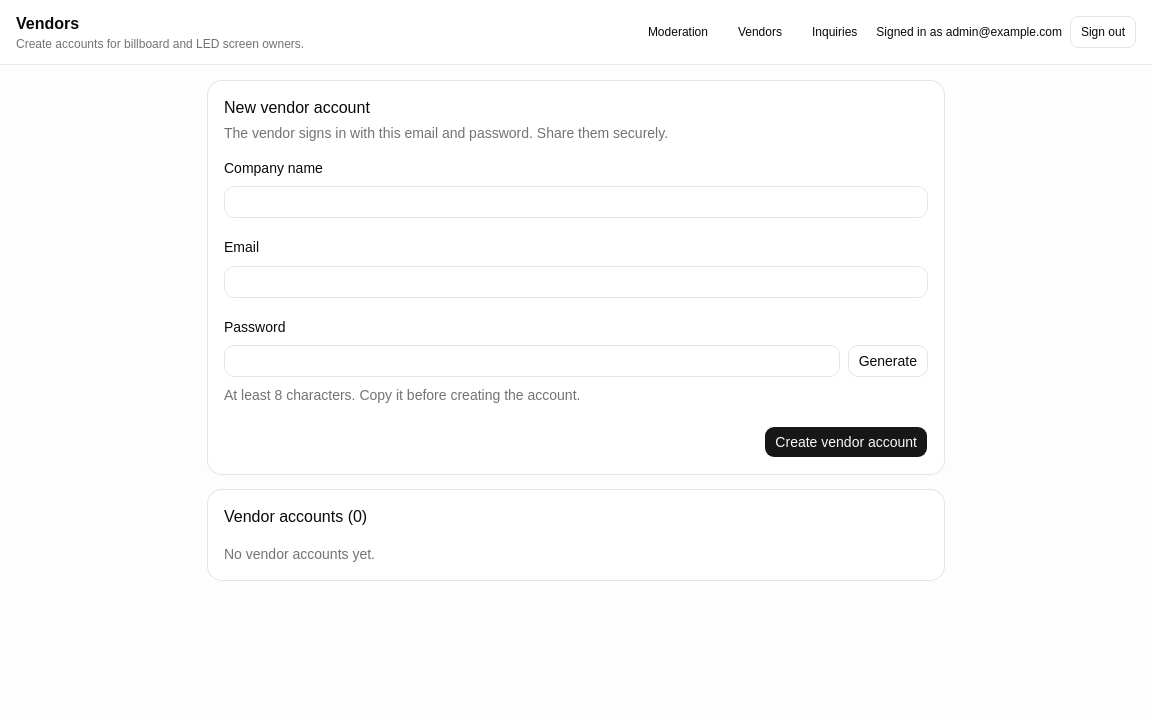
Scenario: AdminVendorsPage › marks the email field when the email is already registered
Check: the text "No vendor accounts yet." is shown, box [224,546,375,562]
Type "Reklama Plus" into the field labelled "Company name" at (576,202), box [224,186,928,218]
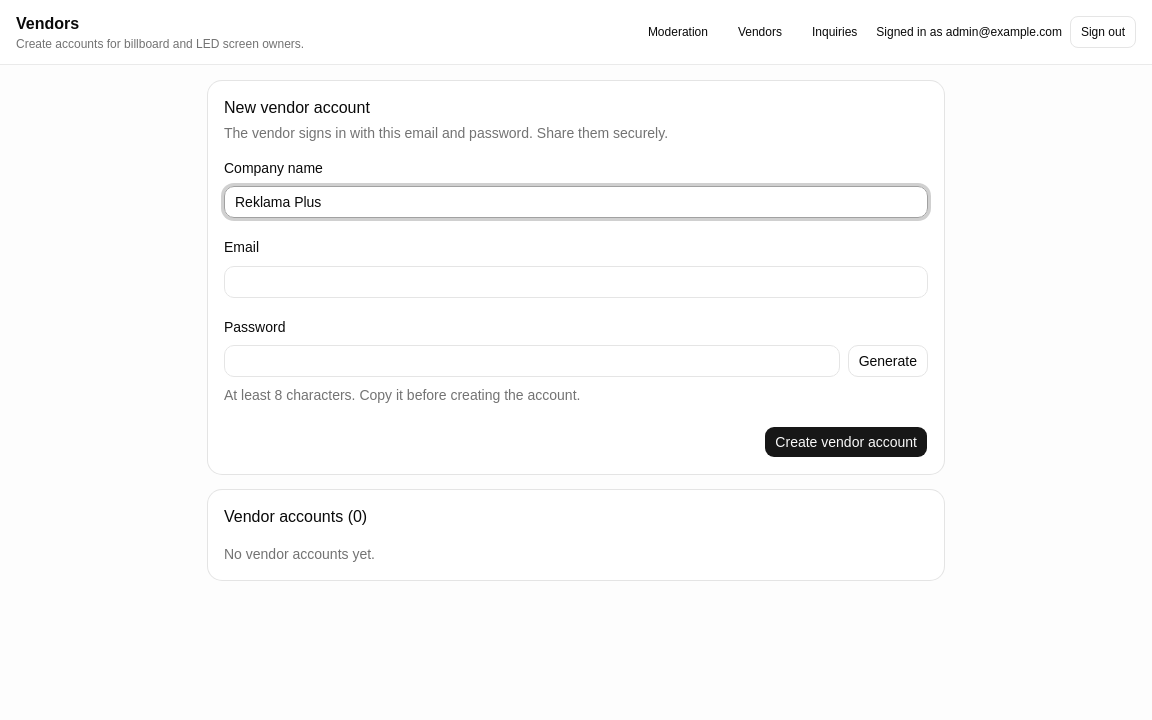
Type "sales@reklama.uz" into the field labelled "Email" at (576,282), box [224,266,928,298]
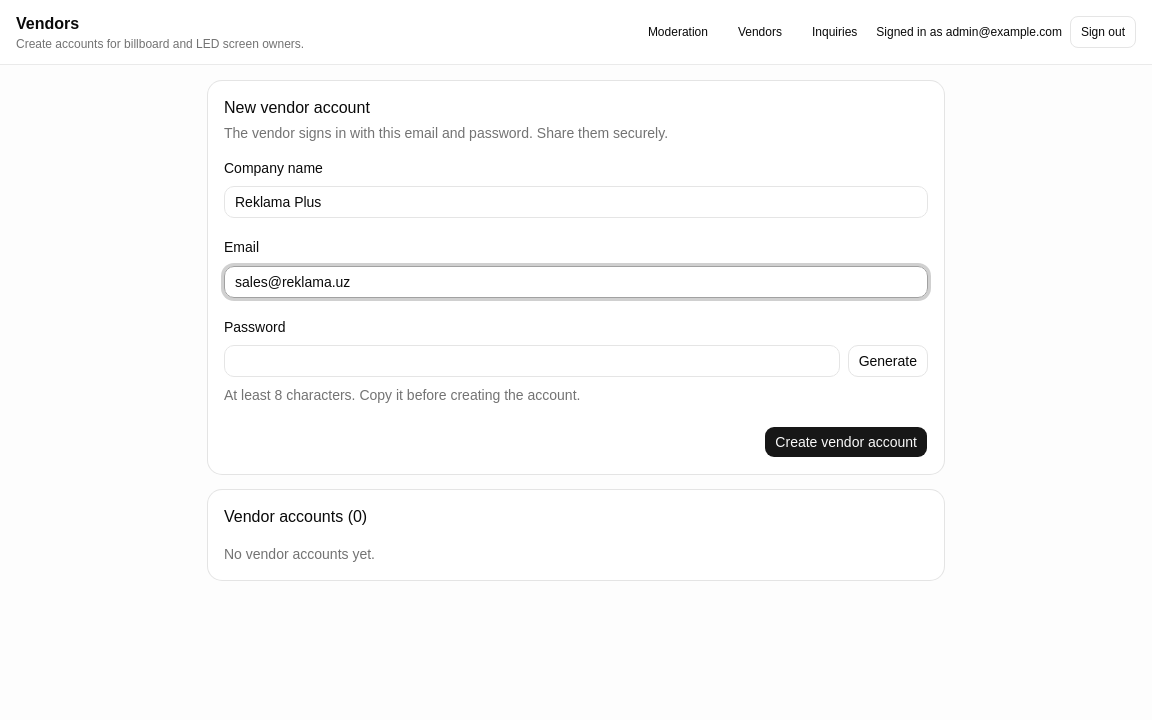
Type "long-enough" into the password field labelled "Password" at (532,361), box [224,345,840,377]
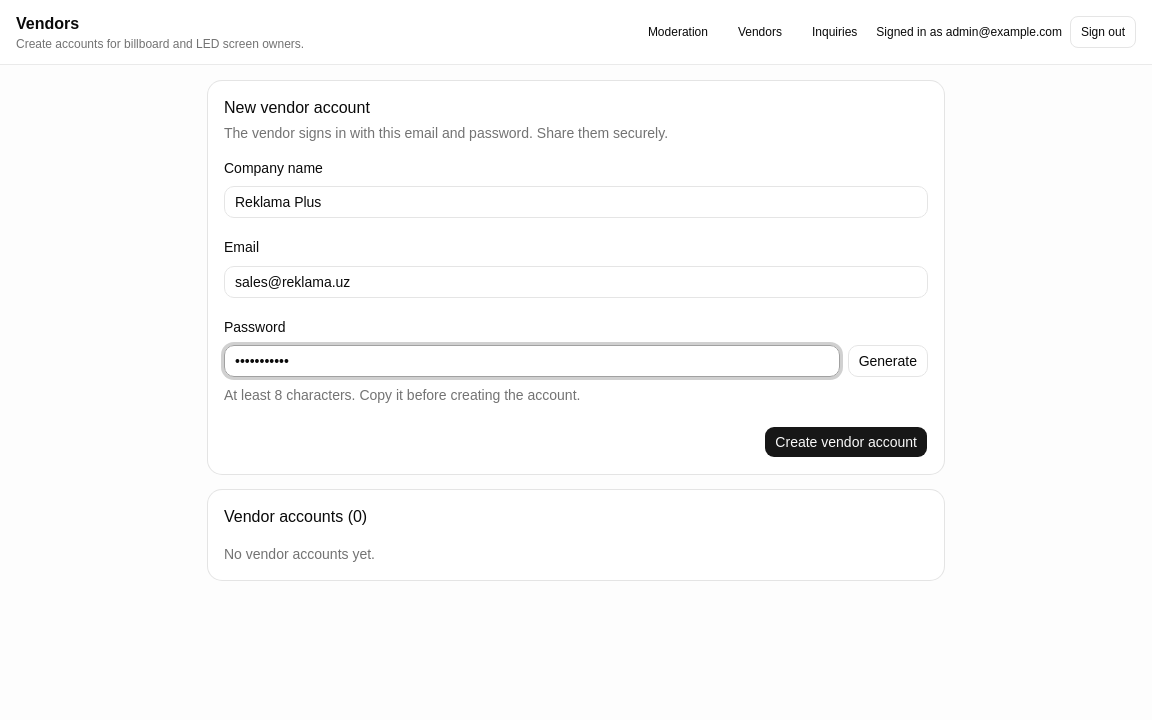
Click the button "Create vendor account" at (846,442), box [764,426,928,458]
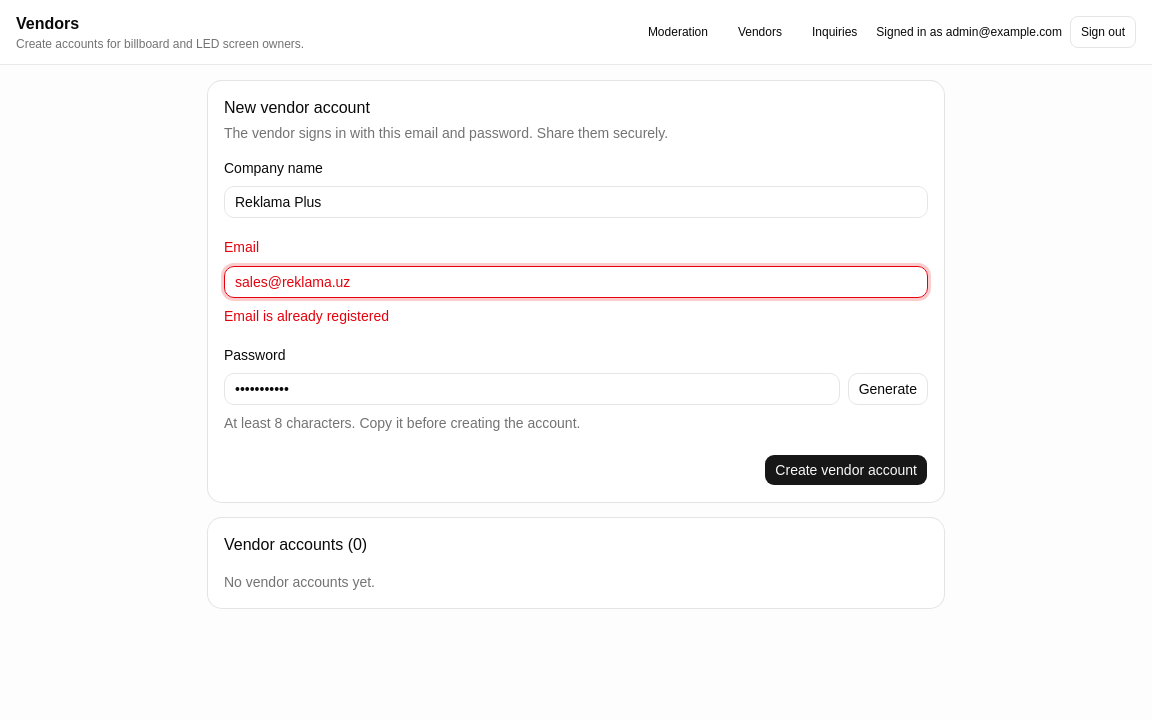
Check: the text "Email is already registered" is shown, box [224,308,389,324]
